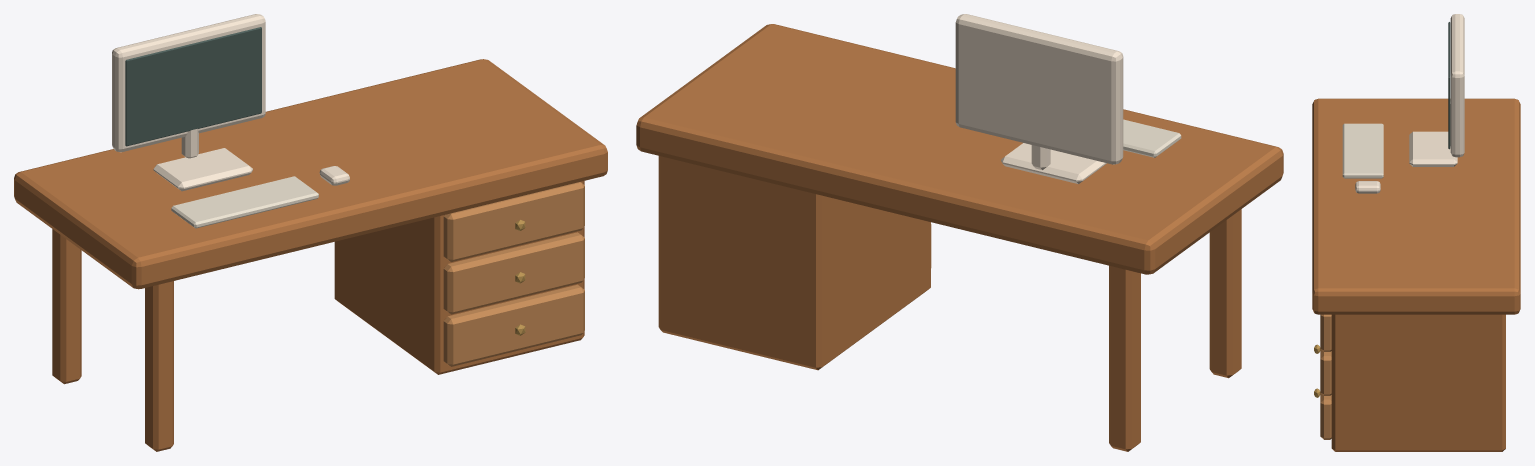
File: desk.glb
3 views of the same model, side by side, from view 1: azimuth 30°, elevation 25°; view 2: azimuth 150°, elevation 25°; view 3: azimuth 270°, elevation 25° (orthographic). The views are drawn at different scales.
Parts seen in each view (by area): view 1: desk_top, desk_pedestal, desk_screen, desk_drawer_1, desk_drawer_0, desk_drawer_2, desk_leg_-0.32, desk_monitor, desk_leg_0.32, desk_keyboard, desk_monitor_foot; view 2: desk_top, desk_pedestal, desk_monitor, desk_leg_0.32, desk_leg_-0.32, desk_monitor_foot, desk_keyboard; view 3: desk_top, desk_pedestal, desk_keyboard, desk_monitor, desk_monitor_foot, desk_drawer_0, desk_drawer_1, desk_drawer_2, desk_screen, desk_mouse.
Boxes of the visible parts, x1=… form: desk_top: x1=14, y1=59, x2=607, y2=289; desk_pedestal: x1=334, y1=181, x2=584, y2=374; desk_screen: x1=125, y1=27, x2=261, y2=146; desk_drawer_1: x1=443, y1=232, x2=584, y2=314; desk_drawer_0: x1=443, y1=284, x2=584, y2=366; desk_drawer_2: x1=443, y1=182, x2=584, y2=261; desk_leg_-0.32: x1=145, y1=281, x2=173, y2=451; desk_monitor: x1=112, y1=14, x2=265, y2=152; desk_leg_0.32: x1=52, y1=229, x2=81, y2=384; desk_keyboard: x1=171, y1=176, x2=318, y2=228; desk_monitor_foot: x1=153, y1=148, x2=252, y2=191; desk_top: x1=636, y1=24, x2=1283, y2=274; desk_pedestal: x1=658, y1=156, x2=930, y2=370; desk_monitor: x1=955, y1=14, x2=1123, y2=164; desk_leg_0.32: x1=1109, y1=265, x2=1140, y2=451; desk_leg_-0.32: x1=1209, y1=209, x2=1241, y2=378; desk_monitor_foot: x1=1001, y1=143, x2=1106, y2=184; desk_keyboard: x1=1123, y1=119, x2=1181, y2=157; desk_top: x1=1312, y1=98, x2=1520, y2=314; desk_pedestal: x1=1331, y1=314, x2=1505, y2=451; desk_keyboard: x1=1342, y1=123, x2=1383, y2=178; desk_monitor: x1=1450, y1=14, x2=1464, y2=157; desk_monitor_foot: x1=1409, y1=131, x2=1457, y2=166; desk_drawer_0: x1=1320, y1=393, x2=1331, y2=439; desk_drawer_1: x1=1320, y1=349, x2=1331, y2=395; desk_drawer_2: x1=1320, y1=314, x2=1331, y2=351; desk_screen: x1=1448, y1=22, x2=1450, y2=149; desk_mouse: x1=1355, y1=181, x2=1380, y2=193.
Bounding box in the file's own units: 1.9 × 1.3 × 0.86.
